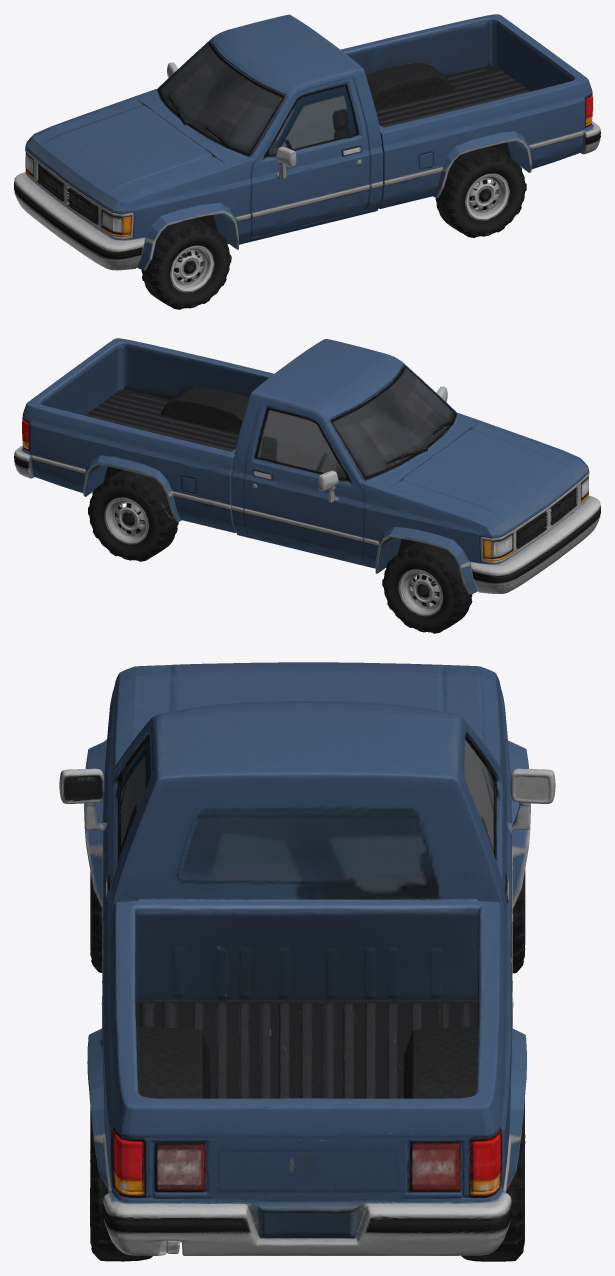
Rendered from caminhonete velha.glb.
The picture shows the model from 3 angles, top to bottom: view 1: azimuth 30°, elevation 25°; view 2: azimuth 150°, elevation 25°; view 3: azimuth 270°, elevation 25°; orthographic projection. The views are drawn at different scales.
Size of the model in its own units: 1.9 by 0.6726 by 0.817.
1 material, 1 textured.
